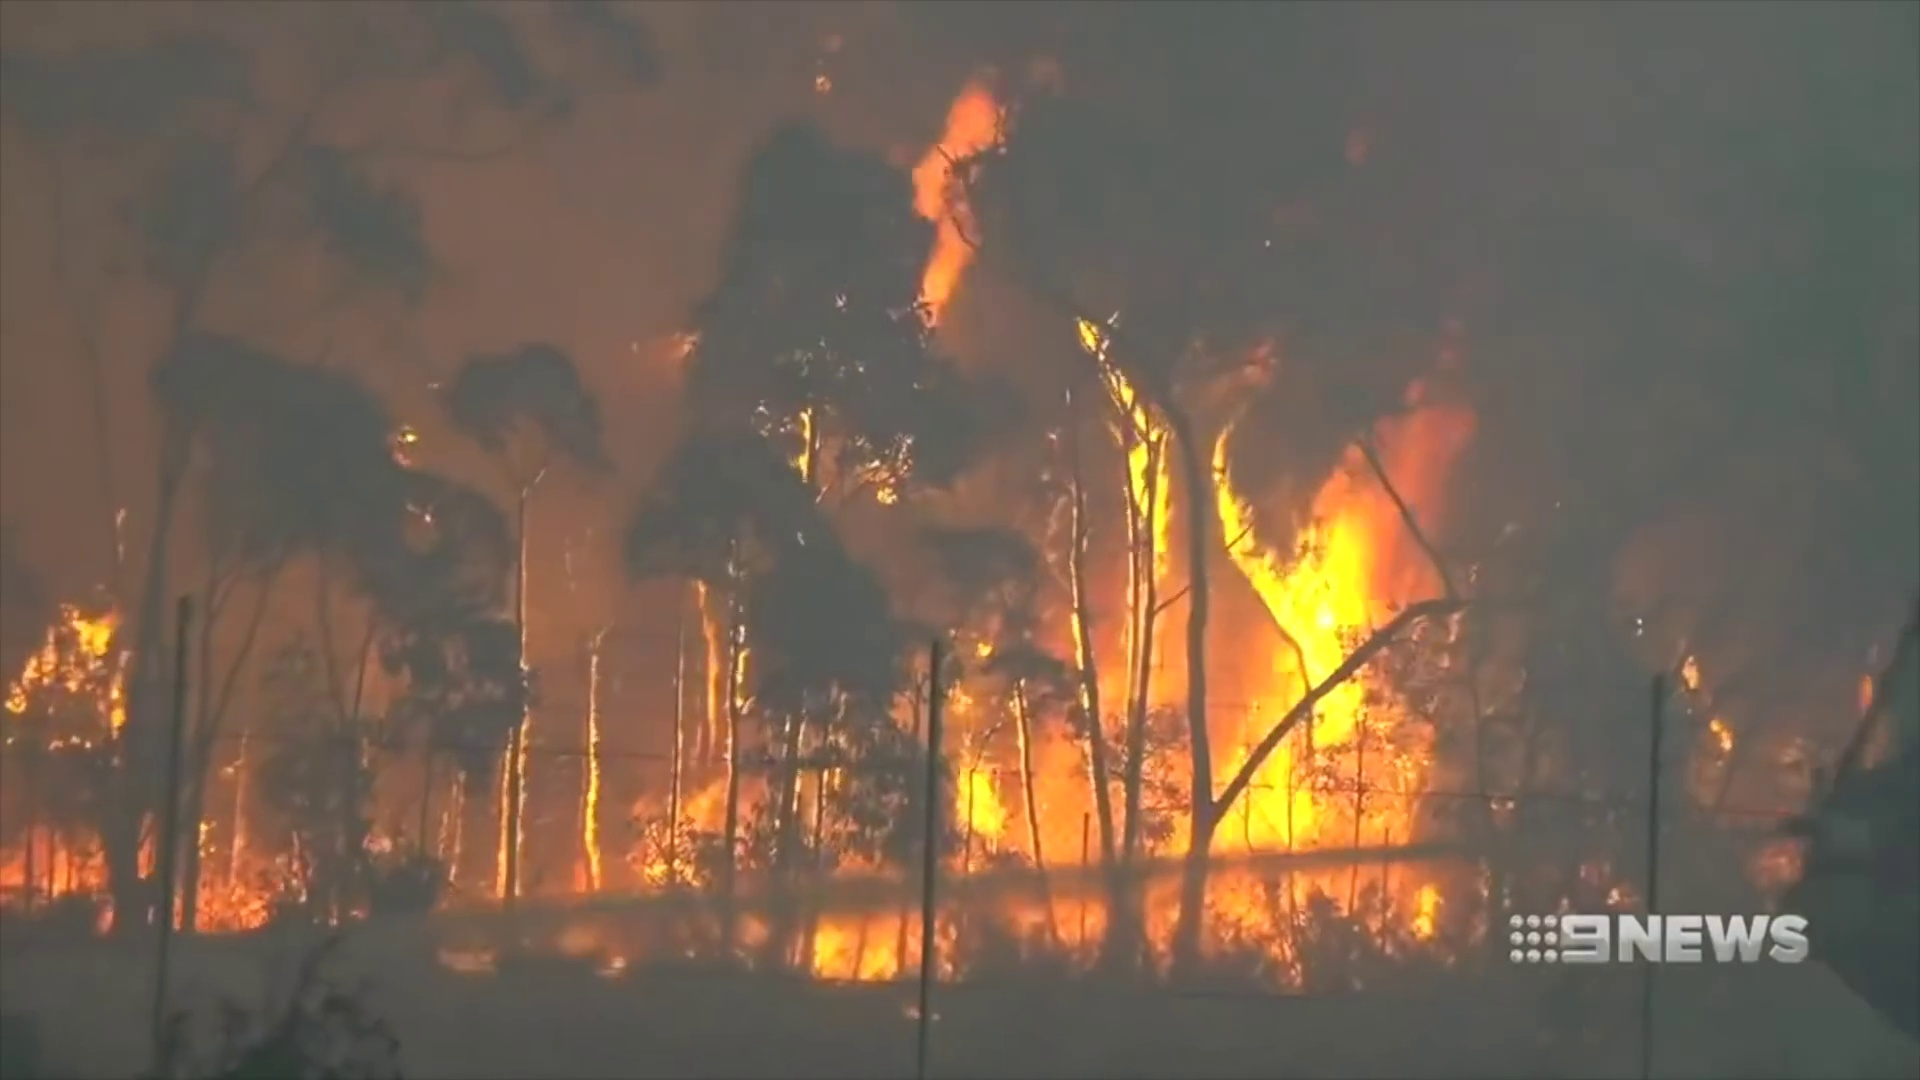fire: (1217, 458, 1403, 796), (16, 616, 127, 733), (1120, 380, 1172, 582), (1, 827, 103, 895), (585, 742, 601, 884), (704, 626, 720, 746)
